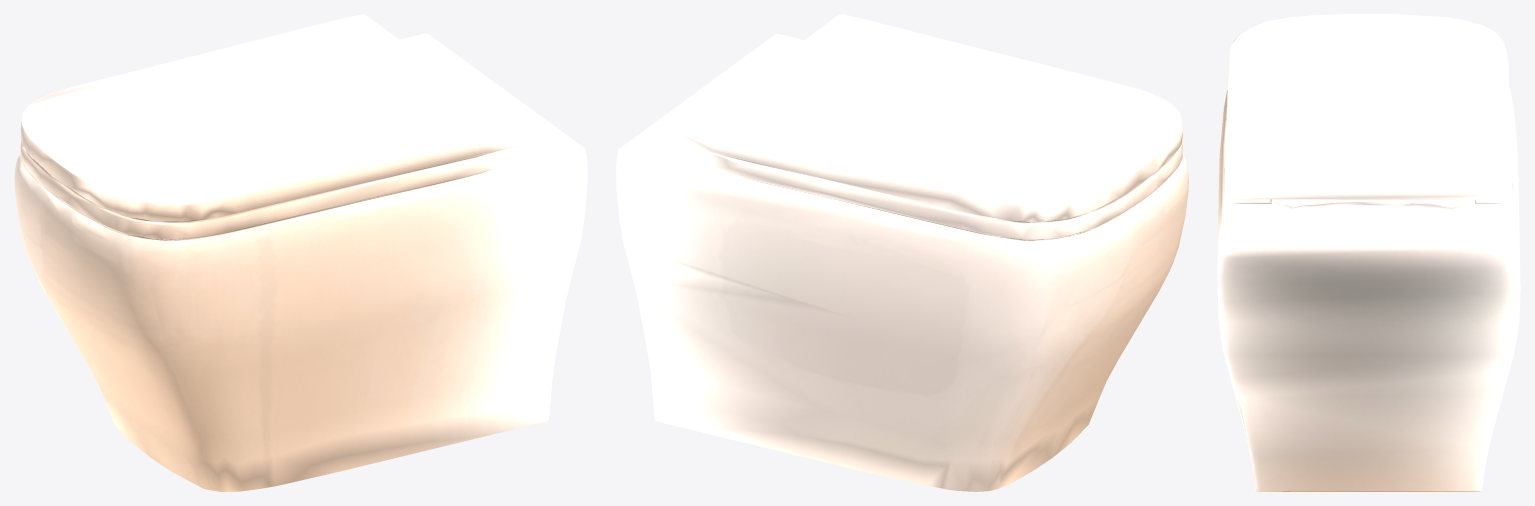
The model's file is Element_Plus_Star_White.glb.
3 renders of one model, left to right at view 1: azimuth 30°, elevation 25°; view 2: azimuth 150°, elevation 25°; view 3: azimuth 270°, elevation 25°, orthographic. The views are drawn at different scales.
Parts seen in each view (by area): view 1: Element_Plus_Star_White; view 2: Element_Plus_Star_White; view 3: Element_Plus_Star_White.
Boxes of the visible parts, x1,y1,x2,y2 form: Element_Plus_Star_White: [14, 14, 587, 491]; Element_Plus_Star_White: [616, 14, 1188, 491]; Element_Plus_Star_White: [1217, 14, 1520, 491].
Bounding box in the file's own units: 0.5771 × 0.3865 × 0.3666.
1 material, 1 textured.
